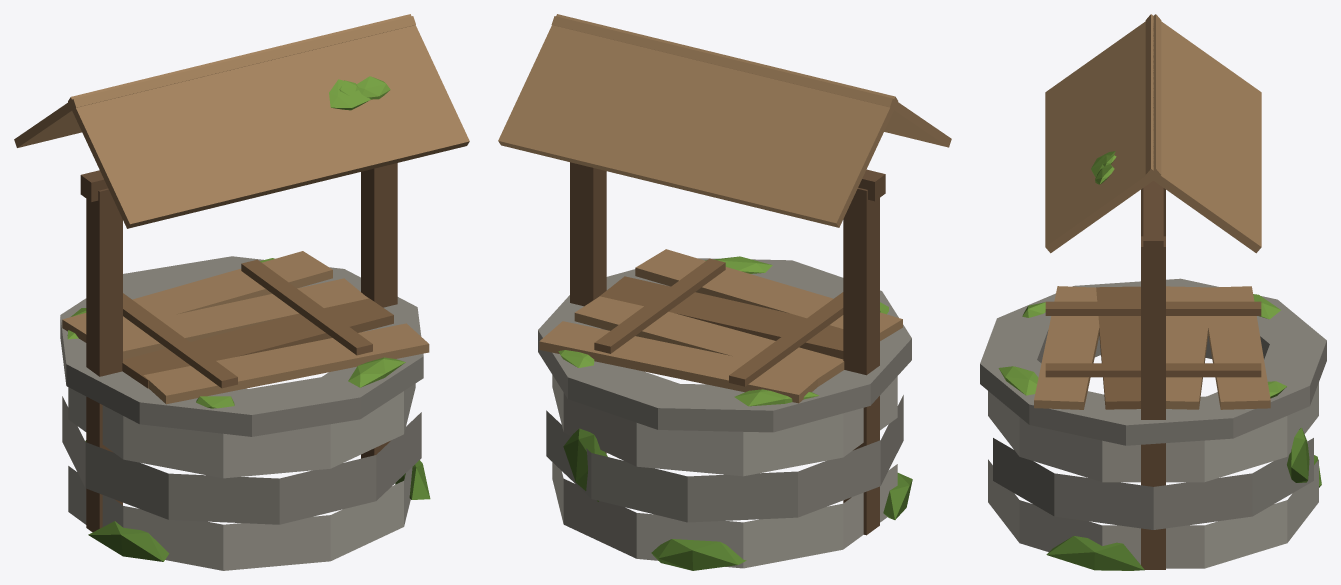
The model's file is prop-old-well.glb.
3 renders of one model, left to right at view 1: azimuth 30°, elevation 25°; view 2: azimuth 150°, elevation 25°; view 3: azimuth 270°, elevation 25°, orthographic. The views are drawn at different scales.
Parts seen in each view (by area): view 1: OldWell; view 2: OldWell; view 3: OldWell.
Part boxes in pixels (x1,y1,x2,y2): OldWell: (14,14,469,570); OldWell: (498,14,951,570); OldWell: (980,14,1326,570).
Size of the model in its own units: 1.46 by 1.81 by 1.38.
